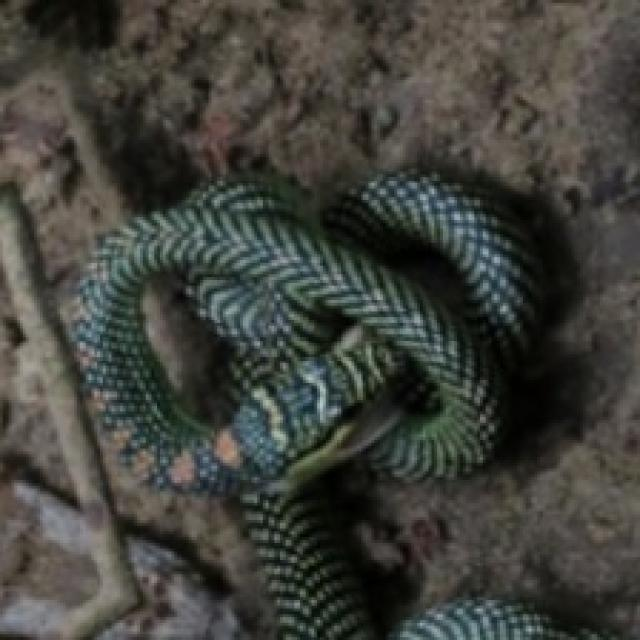paradise tree snake: (77, 171, 543, 637)
